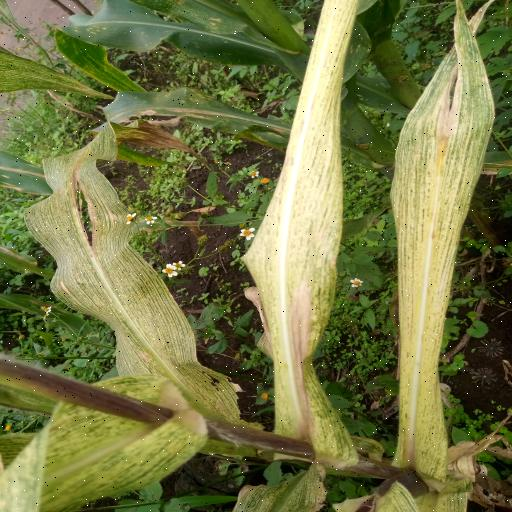Corn_Streak: (15, 117, 242, 421), (248, 0, 371, 451), (398, 2, 490, 471)
